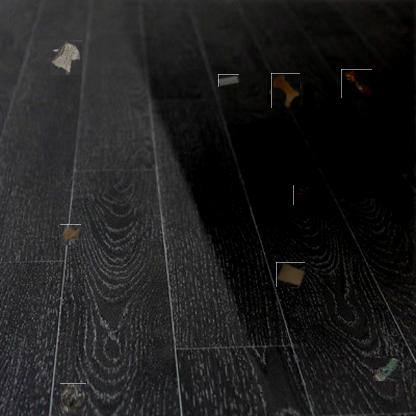dirty: (49, 41, 83, 74), (342, 69, 372, 98), (60, 383, 86, 414), (277, 261, 304, 288), (373, 357, 399, 381), (59, 224, 81, 245), (218, 74, 239, 87)
liquid: (270, 75, 301, 106), (294, 185, 315, 206)
